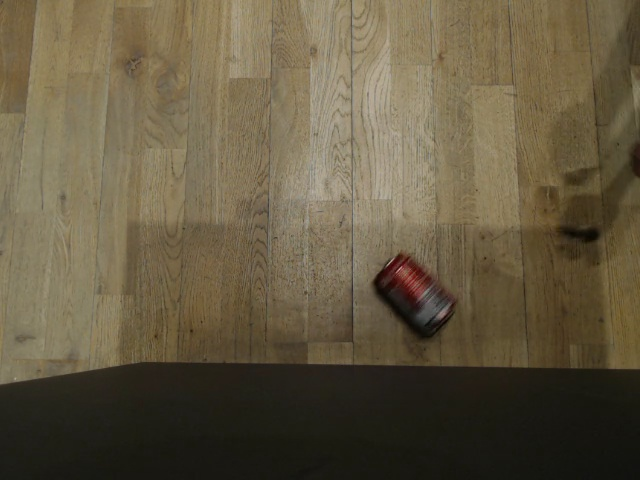coke: (371, 250, 458, 336)
